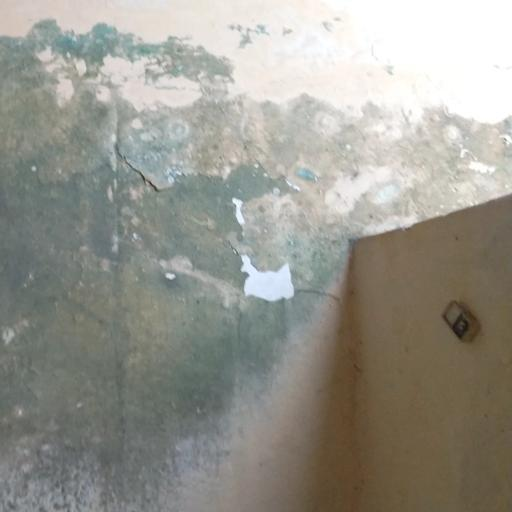algae: (0, 15, 409, 512)
